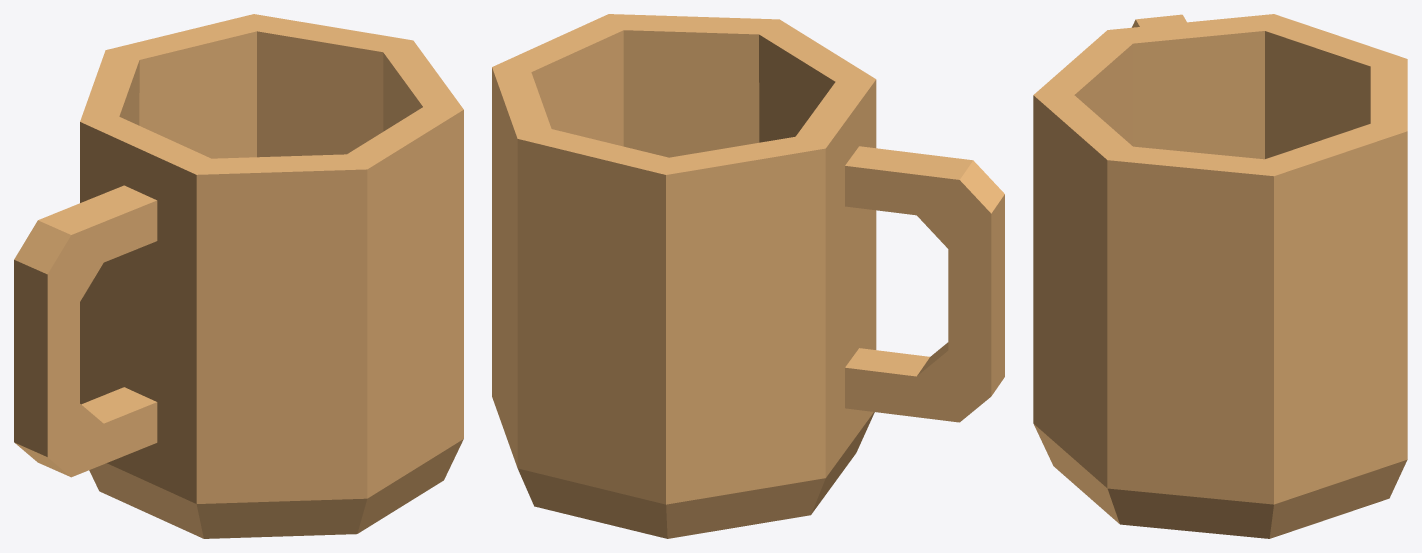
File: empty_tea_cup3.fbx
3 renders of one model, left to right at view 1: azimuth 30°, elevation 25°; view 2: azimuth 150°, elevation 25°; view 3: azimuth 270°, elevation 25°, orthographic.
Parts seen in each view (by area): view 1: empty_tea_cup; view 2: empty_tea_cup; view 3: empty_tea_cup.
Part boxes in pixels (x1=…): empty_tea_cup: x1=14, y1=14, x2=463, y2=538; empty_tea_cup: x1=492, y1=14, x2=1004, y2=538; empty_tea_cup: x1=1033, y1=14, x2=1407, y2=538.
Bounding box in the file's own units: 0.1734 × 0.1255 × 0.1373.
1 material, 1 textured.
